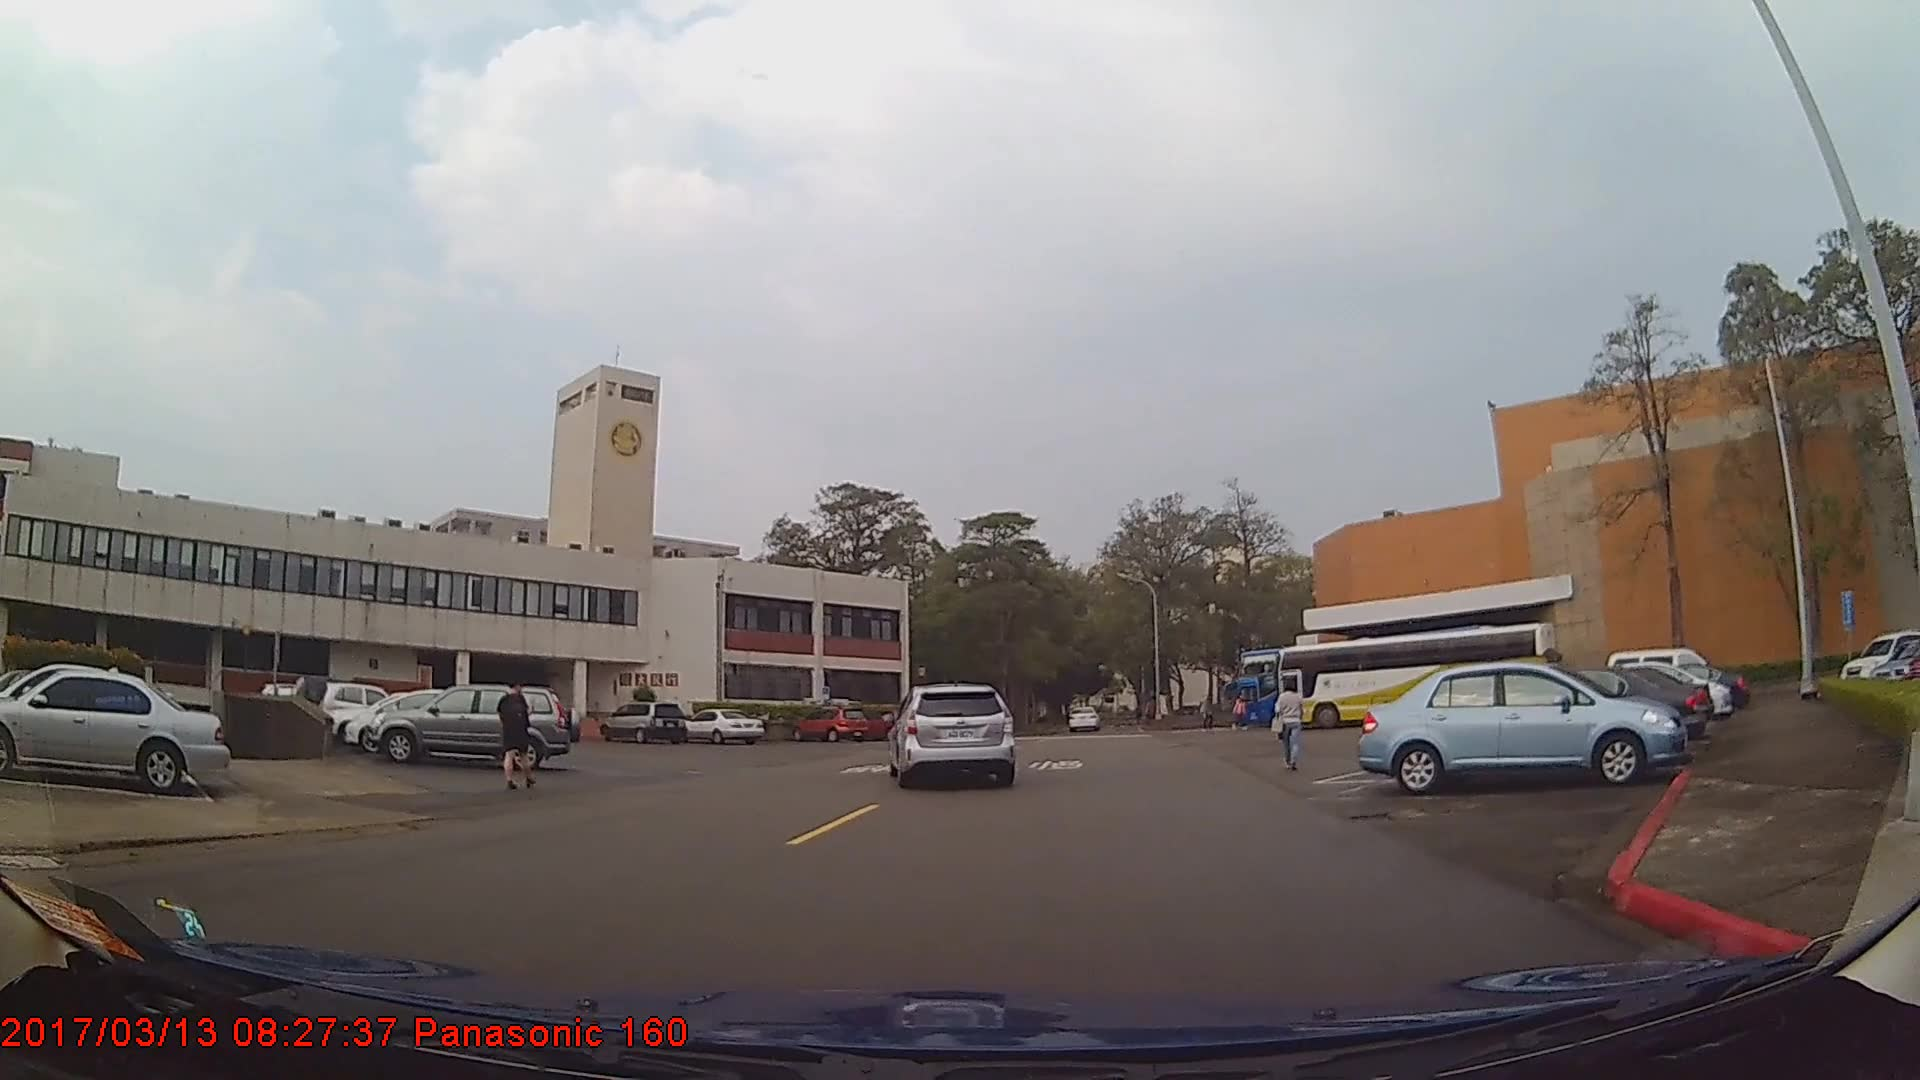pedestrian: (497, 679, 537, 793), (1275, 682, 1306, 773)
vehicle: (1358, 656, 1691, 792), (1274, 617, 1557, 736), (0, 665, 229, 792), (1434, 666, 1705, 757), (1235, 643, 1458, 732), (361, 683, 581, 769), (890, 679, 1015, 790), (344, 690, 508, 758), (319, 681, 411, 734), (597, 699, 687, 745), (794, 703, 869, 742), (681, 707, 764, 742), (1065, 702, 1098, 731)
